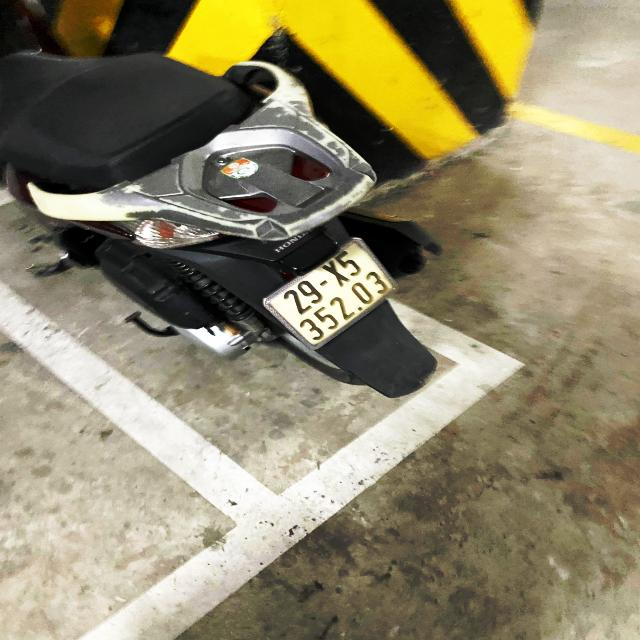license_plate: (268, 235, 401, 355)
